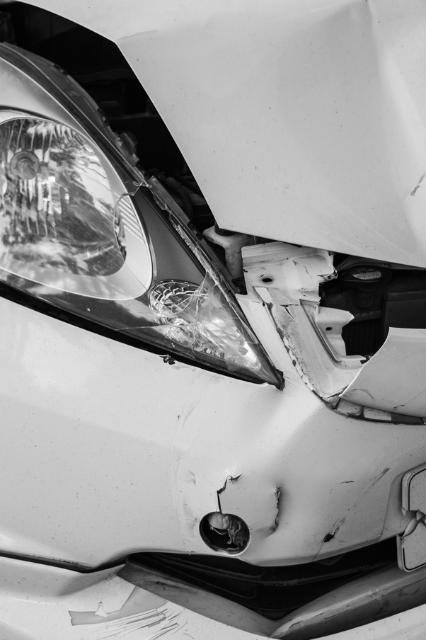Bonnet: (126, 0, 426, 243)
Bumper: (35, 356, 426, 640)
